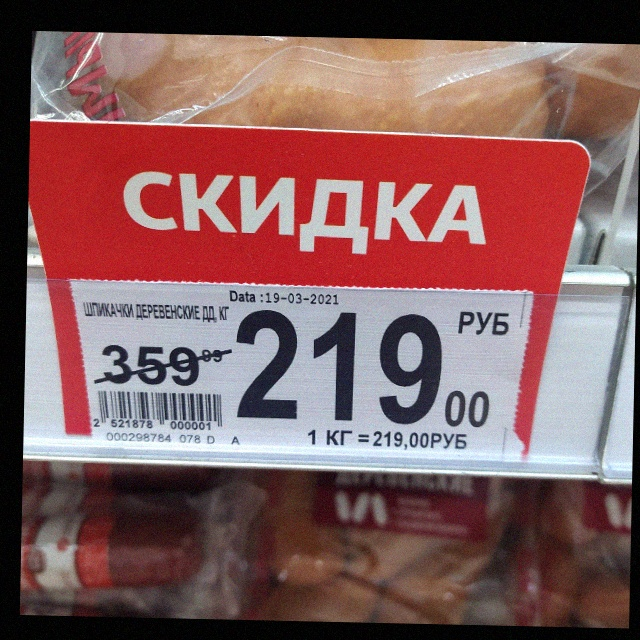barcode: (90, 386, 225, 433)
name: (81, 297, 230, 325)
price: (232, 301, 492, 436)
price_tag: (70, 277, 533, 465)
